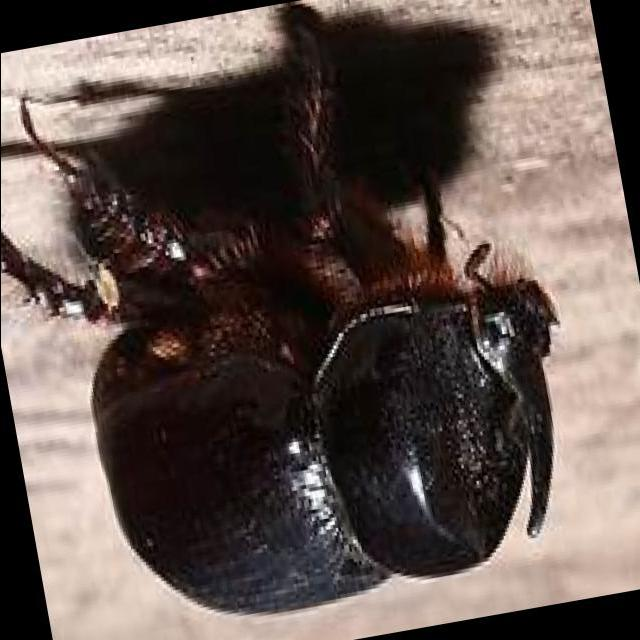Rhino-beetle: (30, 143, 616, 627)
